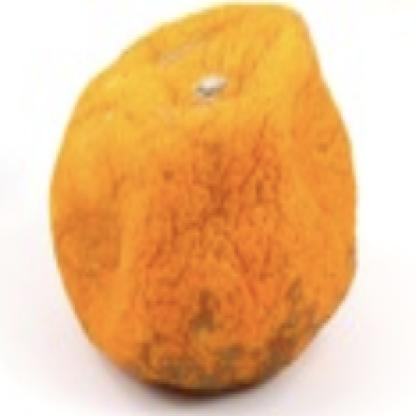rotten: (51, 1, 359, 388)
